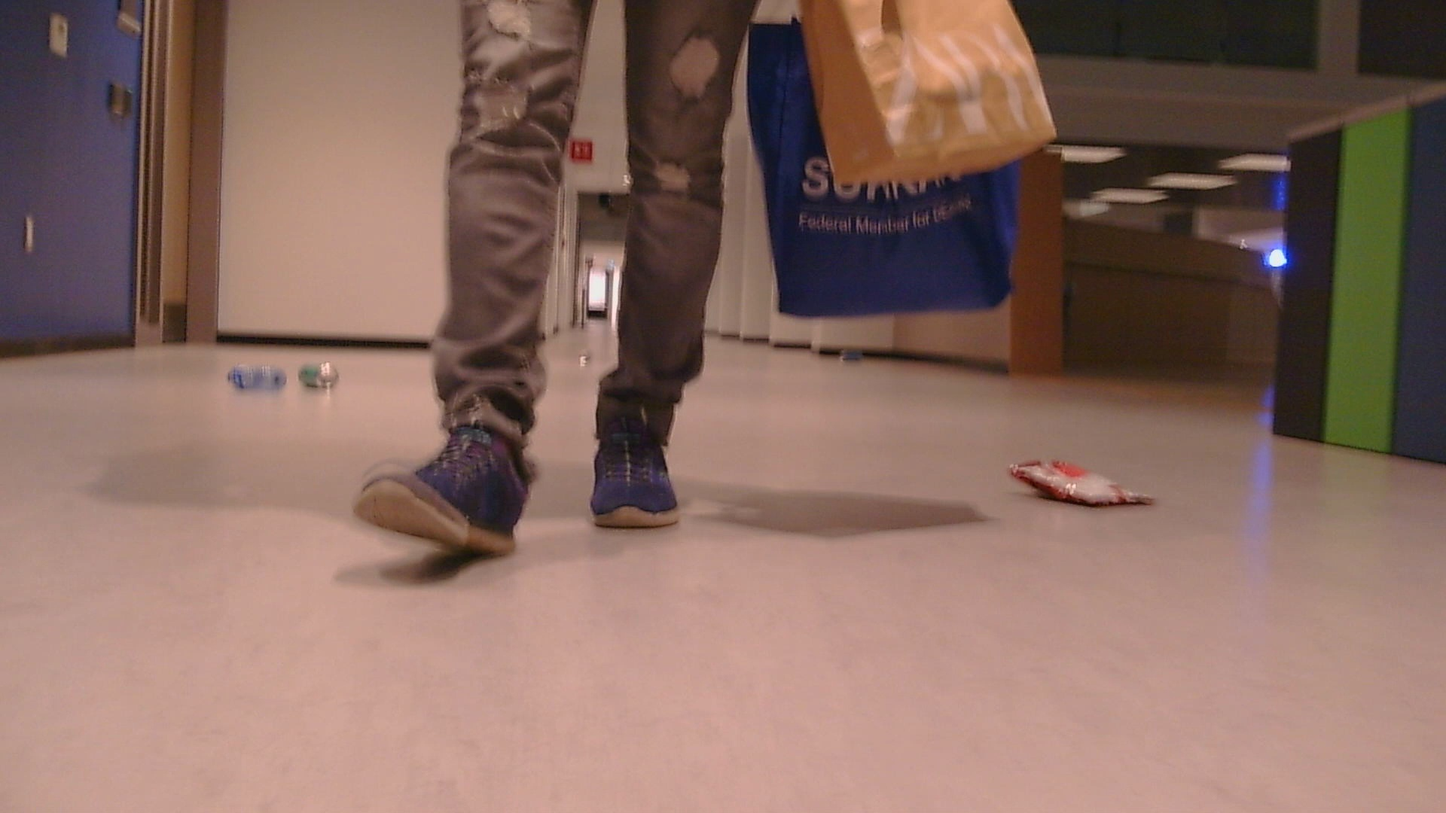carton: (1005, 440, 1165, 543), (218, 349, 293, 396), (303, 357, 357, 395)
